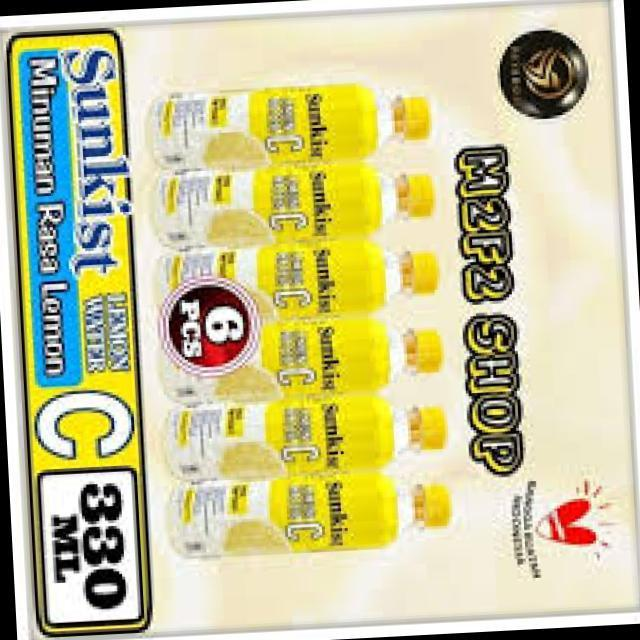good: (136, 64, 432, 193), (158, 463, 462, 586), (140, 309, 442, 424), (141, 145, 434, 260), (144, 232, 442, 337), (169, 384, 457, 490)
